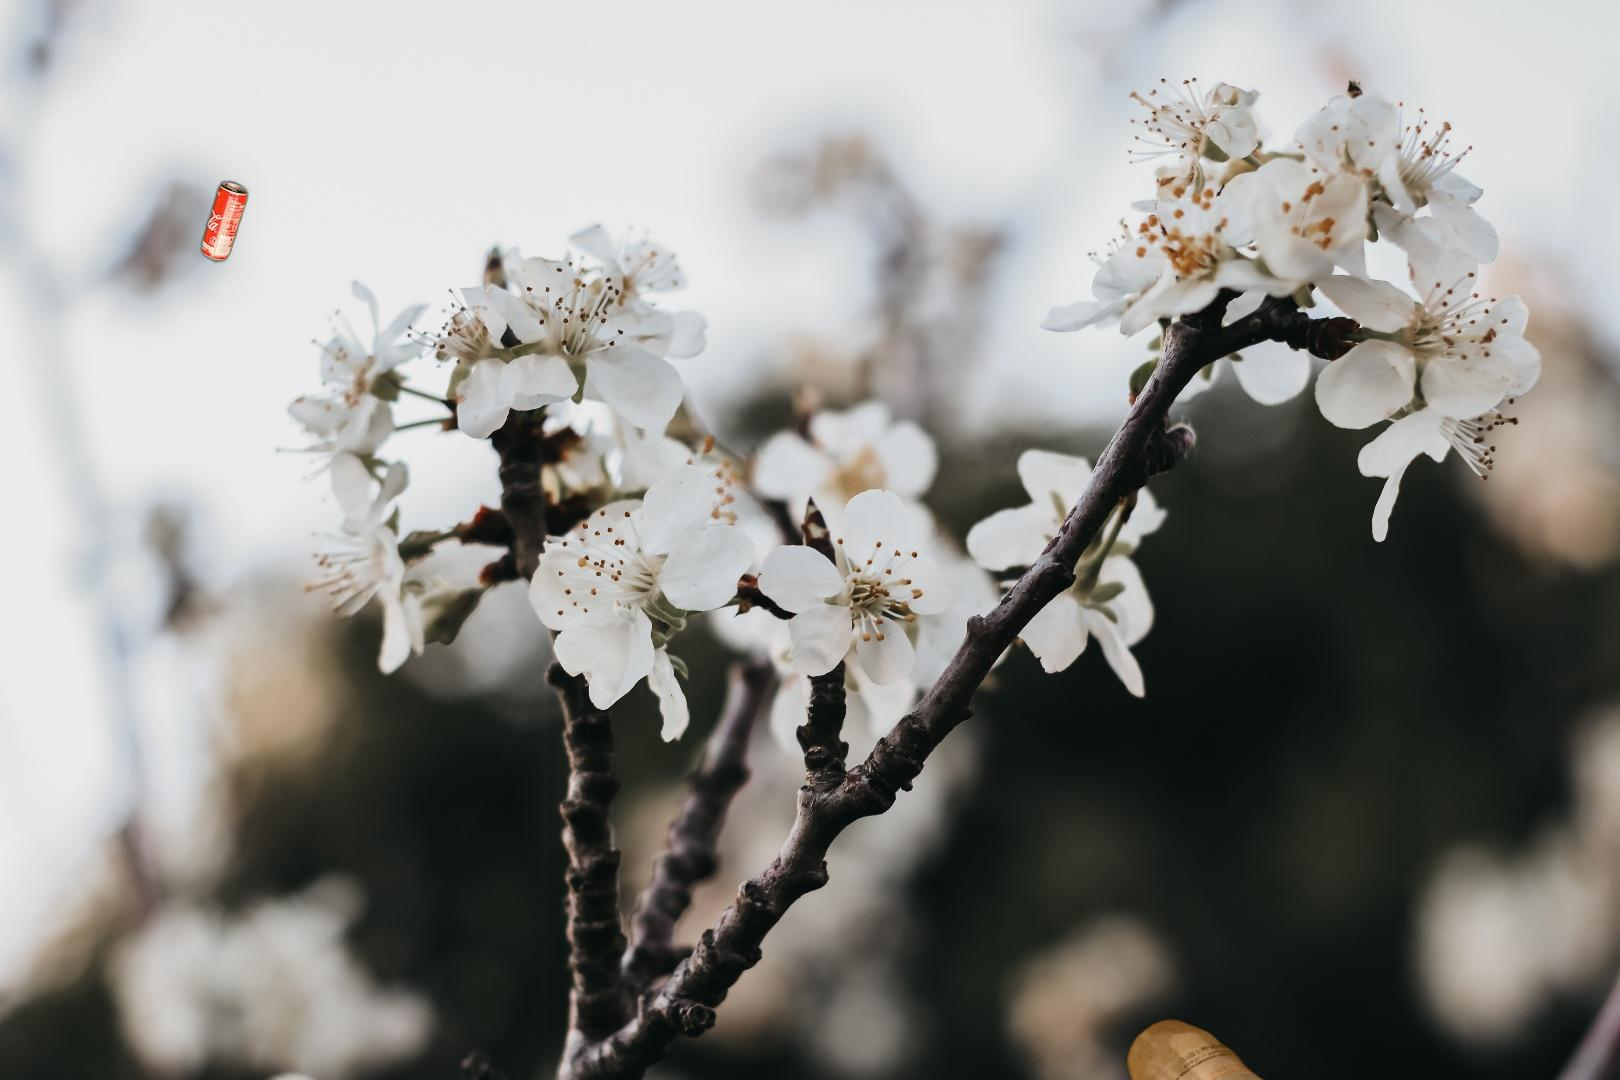metal-cans: (196, 175, 252, 268)
plastic-bottles: (1120, 1014, 1473, 1080)
